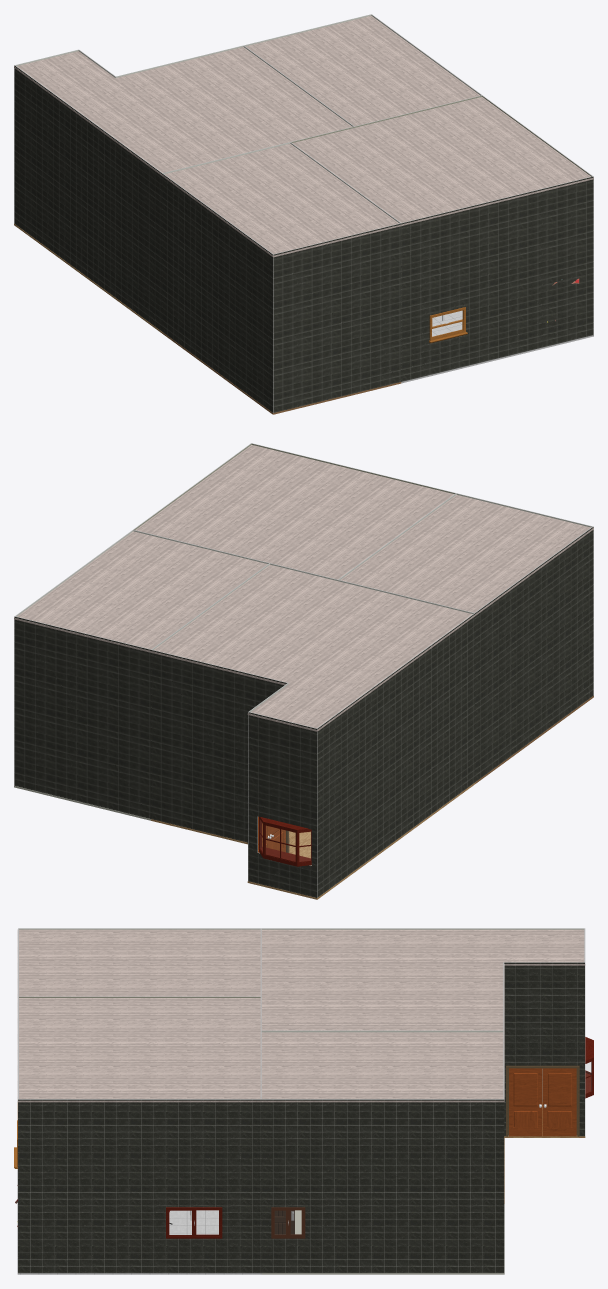
The model's file is ProcTHOR-Train-69.glb.
The picture shows the model from 3 angles, top to bottom: view 1: azimuth 30°, elevation 25°; view 2: azimuth 150°, elevation 25°; view 3: azimuth 270°, elevation 25°; orthographic projection. The views are drawn at different scales.
Visible parts, largest first — view 1: WallInside#wall|exterior|0.00|15.29|6.55|15.29, WallInside#wall|exterior|10.92|0.00|10.92|8.74, Ceiling#room|6|c, Ceiling#room|4|c, WallInside#wall|exterior|6.55|15.29|10.92|15.29, WallInside#wall|exterior|10.92|8.74|10.92|15.29, Ceiling#room|5|c, Ceiling#room|7|c, Floor#room|4|f, Window_Hung_48x32, Floor#room|5|f; view 2: WallInside#wall|exterior|10.92|0.00|10.92|8.74, Ceiling#room|6|c, Ceiling#room|4|c, WallInside#wall|exterior|0.00|2.19|4.37|2.19, WallInside#wall|exterior|10.92|8.74|10.92|15.29, WallInside#wall|exterior|4.37|2.19|8.74|2.19, Ceiling#room|7|c, Ceiling#room|5|c, WallInside#wall|exterior|8.74|0.00|10.92|0.00, Window_Bay_2, Floor#room|6|f; view 3: WallInside#wall|exterior|0.00|2.19|0.00|8.74, WallInside#wall|exterior|0.00|8.74|0.00|15.29, Ceiling#room|6|c, Ceiling#room|4|c, Ceiling#room|7|c, Ceiling#room|5|c, WallInside#wall|exterior|8.74|0.00|8.74|2.19, Doorway_Door_4b, Doorway_Door_4a, Floor#room|4|f, Window_Slider_60x36, Doorway_Double_4 (+7 smaller).
Part boxes in pixels (x1,y1,x2,y2): WallInside#wall|exterior|0.00|15.29|6.55|15.29: [401, 176, 593, 381]; WallInside#wall|exterior|10.92|0.00|10.92|8.74: [14, 65, 162, 331]; Ceiling#room|6|c: [14, 47, 351, 175]; Ceiling#room|4|c: [292, 97, 593, 225]; WallInside#wall|exterior|6.55|15.29|10.92|15.29: [273, 223, 401, 412]; WallInside#wall|exterior|10.92|8.74|10.92|15.29: [162, 173, 273, 412]; Ceiling#room|5|c: [161, 143, 401, 257]; Ceiling#room|7|c: [245, 15, 480, 126]; Floor#room|4|f: [401, 310, 593, 383]; Window_Hung_48x32: [429, 307, 467, 343]; Floor#room|5|f: [161, 332, 401, 414]; WallInside#wall|exterior|10.92|0.00|10.92|8.74: [317, 613, 475, 897]; Ceiling#room|6|c: [150, 565, 475, 731]; Ceiling#room|4|c: [135, 445, 454, 580]; WallInside#wall|exterior|0.00|2.19|4.37|2.19: [14, 616, 151, 818]; WallInside#wall|exterior|10.92|8.74|10.92|15.29: [475, 527, 593, 781]; WallInside#wall|exterior|4.37|2.19|8.74|2.19: [151, 650, 287, 842]; Ceiling#room|7|c: [14, 531, 267, 652]; Ceiling#room|5|c: [340, 494, 593, 615]; WallInside#wall|exterior|8.74|0.00|10.92|0.00: [248, 712, 316, 897]; Window_Bay_2: [259, 817, 311, 866]; Floor#room|6|f: [151, 782, 475, 899]; WallInside#wall|exterior|0.00|2.19|0.00|8.74: [260, 1099, 504, 1272]; WallInside#wall|exterior|0.00|8.74|0.00|15.29: [18, 1099, 261, 1272]; Ceiling#room|6|c: [260, 929, 585, 1031]; Ceiling#room|4|c: [17, 998, 261, 1102]; Ceiling#room|7|c: [260, 1032, 504, 1102]; Ceiling#room|5|c: [17, 929, 261, 998]; WallInside#wall|exterior|8.74|0.00|8.74|2.19: [504, 962, 584, 1136]; Doorway_Door_4b: [509, 1068, 542, 1136]; Doorway_Door_4a: [543, 1068, 576, 1136]; Floor#room|4|f: [17, 1170, 261, 1274]; Window_Slider_60x36: [166, 1207, 222, 1238]; Doorway_Double_4: [506, 1065, 579, 1136].
Size of what is drawn, in the model's own units: 10.98 by 5.23 by 15.66.
278 materials, 128 textured.
